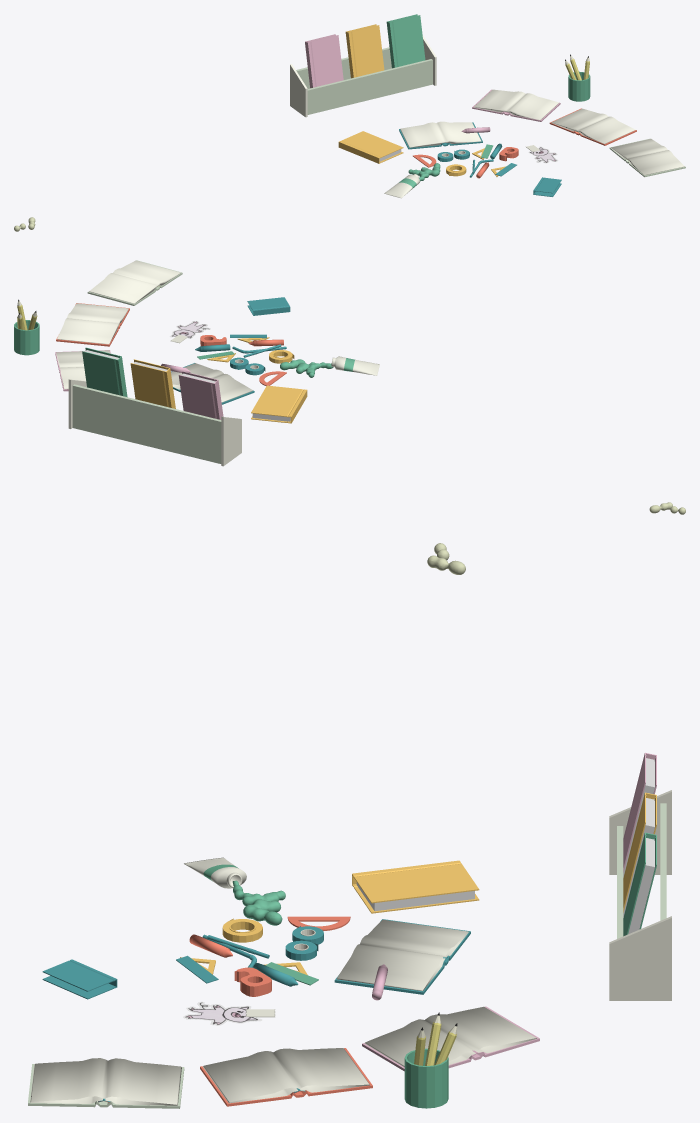
Rendered from kidapp8.glb.
The picture shows the model from 3 angles, top to bottom: view 1: azimuth 30°, elevation 25°; view 2: azimuth 150°, elevation 25°; view 3: azimuth 270°, elevation 25°; orthographic projection. The views are drawn at different scales.
Visible parts, largest first — view 1: Cube.001, Cube.032, Cube.033, Cube.028, Cube.034, Cube.004, Cube.007, Cube.010, Cube.011, Cube.012, Cube.030, Cube.019; view 2: Cube.001, Cube.034, Cube.033, Cube.004, Cube.007, Cube.010, Cube.011, Cube.028, Cube.012, Cube.032, Cube.008, Cube.030 (+1 smaller); view 3: Cube.001, Cube.033, Cube.034, Cube.028, Cube.032, Cube.011, Cube.008, Cube.012, Cube.030, Cube.019, Cube.031, Plane.003 (+4 smaller).
Part boxes in pixels (x1,y1,x2,y2): Cube.001: [290, 35, 436, 117]; Cube.032: [472, 89, 560, 121]; Cube.033: [549, 108, 636, 145]; Cube.028: [399, 121, 482, 149]; Cube.034: [609, 138, 685, 177]; Cube.004: [386, 14, 425, 68]; Cube.007: [345, 24, 384, 78]; Cube.010: [305, 34, 343, 88]; Cube.011: [338, 131, 403, 163]; Cube.012: [384, 163, 440, 198]; Cube.030: [568, 71, 590, 101]; Cube.019: [533, 177, 561, 196]; Cube.001: [68, 379, 241, 466]; Cube.034: [87, 260, 182, 305]; Cube.033: [56, 303, 129, 346]; Cube.004: [82, 347, 127, 397]; Cube.007: [130, 359, 175, 408]; Cube.010: [178, 371, 223, 419]; Cube.011: [251, 385, 307, 423]; Cube.028: [171, 363, 254, 404]; Cube.012: [280, 356, 379, 377]; Cube.032: [55, 350, 110, 391]; Cube.008: [85, 350, 685, 514]; Cube.030: [14, 320, 39, 355]; Cube.001: [609, 790, 671, 1000]; Cube.033: [200, 1048, 372, 1106]; Cube.034: [28, 1058, 184, 1108]; Cube.028: [334, 919, 470, 994]; Cube.032: [362, 1006, 539, 1071]; Cube.011: [352, 860, 479, 913]; Cube.008: [356, 543, 654, 933]; Cube.012: [184, 857, 285, 925]; Cube.030: [404, 1048, 448, 1108]; Cube.019: [42, 959, 117, 999]; Cube.031: [414, 1012, 457, 1065]; Plane.003: [183, 1001, 262, 1025].
Size of the model in its own units: 42.02 by 4.8 by 20.51.
10 materials, 2 textured.
